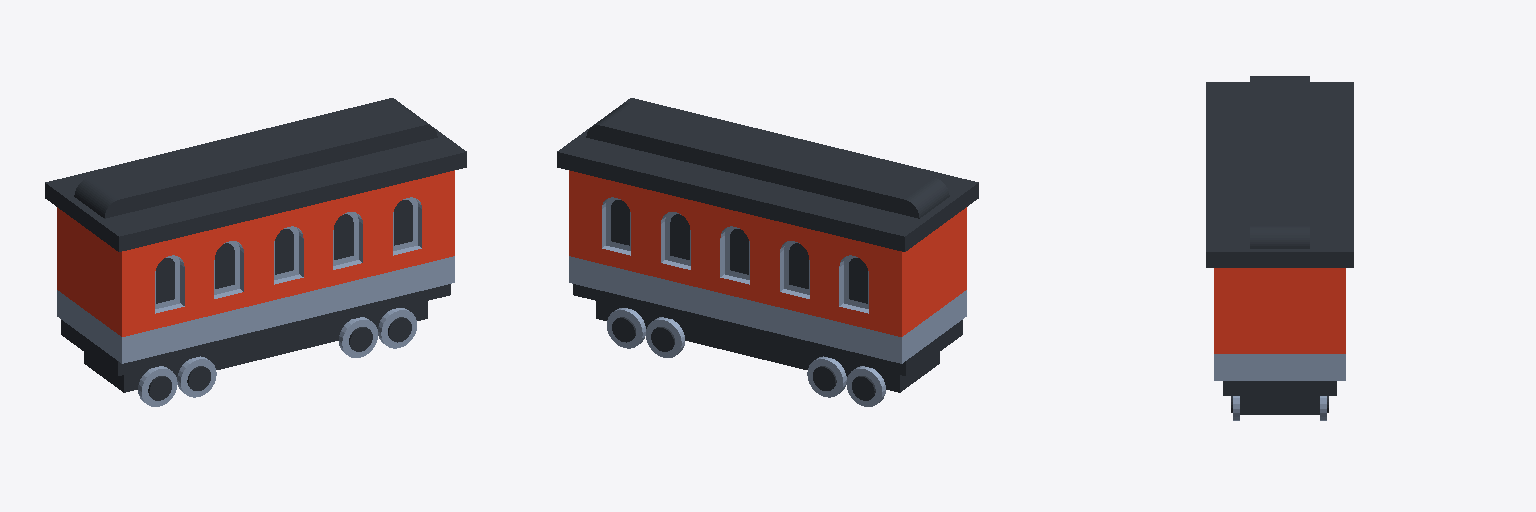
The model's file is trainWagon.obj.
3 views of the same model, side by side, from view 1: azimuth 30°, elevation 25°; view 2: azimuth 150°, elevation 25°; view 3: azimuth 270°, elevation 25° (orthographic).
Parts seen in each view (by area): view 1: trainWagon; view 2: trainWagon; view 3: trainWagon.
Boxes of the visible parts, x1,y1,x2,y2 form: trainWagon: [45, 98, 466, 406]; trainWagon: [557, 98, 978, 406]; trainWagon: [1206, 76, 1353, 420].
Size of the model in its own units: 0.4684 by 0.2684 by 0.1727.